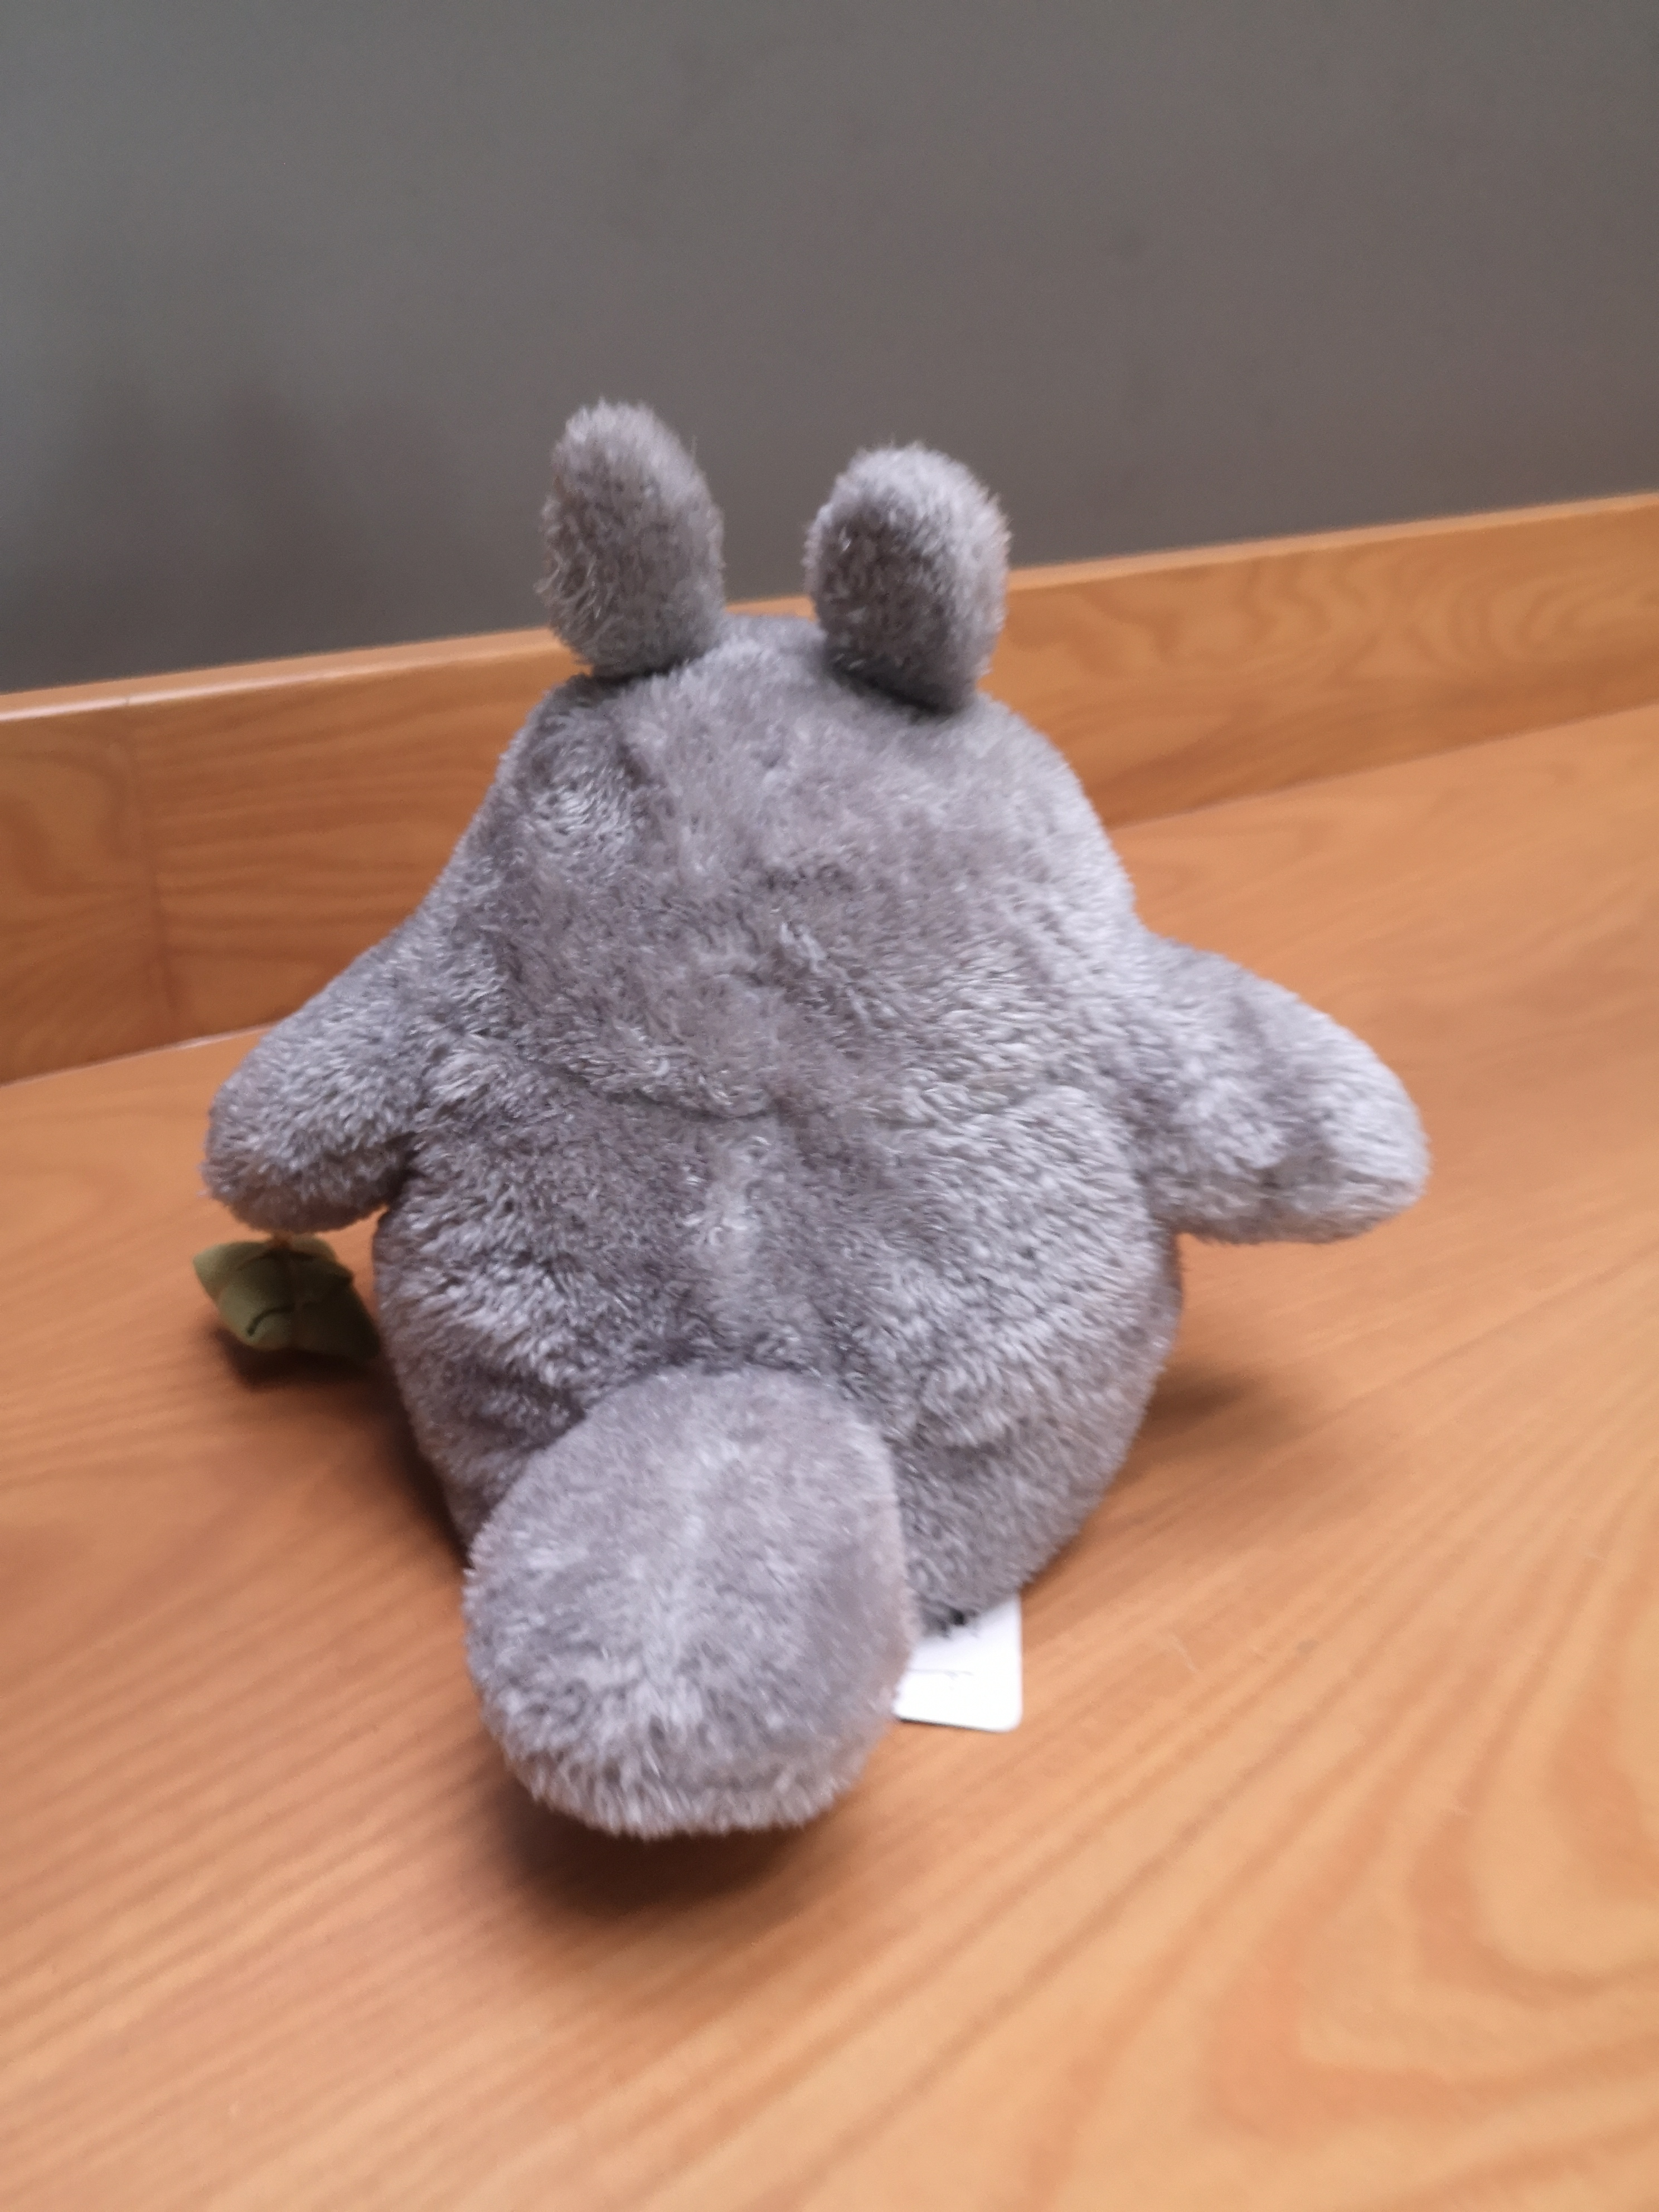totoro: (188, 383, 1453, 1923)
